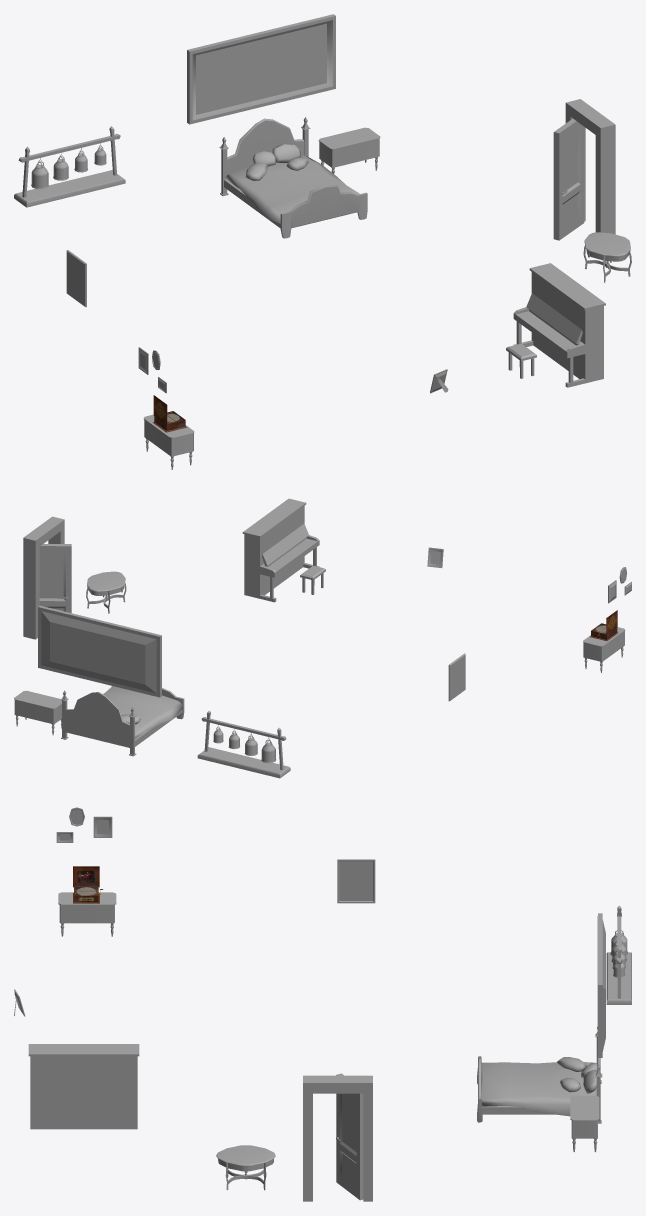
The model's file is SM_HabitacionRelleno_Geo.fbx.
3 views of the same model, one above another, from view 1: azimuth 30°, elevation 25°; view 2: azimuth 150°, elevation 25°; view 3: azimuth 270°, elevation 25° (orthographic). The views are drawn at different scales.
Parts seen in each view (by area): view 1: SM_CuadroColgadoGrande_B, Cama, Piano, puerta, marco, base (×2), Campana_base, almohadones, mesa_base, Cuadro_Puzzle, patas_base, Caja_Musical; view 2: SM_CuadroColgadoGrande_B, Cama, Piano, marco, puerta, base (×2), Campana_base, mesa_base, Cuadro_Puzzle, patas_base, Caja_Musical, Campana_viga; view 3: Piano, Cama, marco, puerta, Cuadro_Puzzle, patas_base (×2), SM_CuadroColgadoGrande_B, mesa_base, base, Caja_Musical, Campana_base, almohadones.
Part boxes in pixels (<box>): SM_CuadroColgadoGrande_B: <box>187,14,335,124</box>; Cama: <box>219,117,367,238</box>; Piano: <box>513,263,605,387</box>; puerta: <box>553,118,584,240</box>; marco: <box>565,99,615,234</box>; base (×2): <box>144,138,379,456</box>; Campana_base: <box>14,170,125,207</box>; almohadones: <box>245,144,308,180</box>; mesa_base: <box>584,232,630,261</box>; Cuadro_Puzzle: <box>66,250,86,307</box>; patas_base: <box>318,127,380,173</box>; Caja_Musical: <box>153,395,187,432</box>; SM_CuadroColgadoGrande_B: <box>38,605,161,697</box>; Cama: <box>61,686,184,756</box>; Piano: <box>242,498,319,602</box>; marco: <box>23,516,64,639</box>; puerta: <box>39,544,71,612</box>; base (×2): <box>14,631,624,724</box>; Campana_base: <box>197,747,290,778</box>; mesa_base: <box>87,571,125,595</box>; Cuadro_Puzzle: <box>448,653,465,701</box>; patas_base: <box>14,690,61,735</box>; Caja_Musical: <box>590,610,617,640</box>; Campana_viga: <box>201,717,286,740</box>; Piano: <box>28,1044,139,1129</box>; Cama: <box>477,1027,602,1123</box>; marco: <box>303,1075,372,1201</box>; puerta: <box>336,1073,363,1200</box>; Cuadro_Puzzle: <box>337,859,375,903</box>; patas_base (×2): <box>58,892,599,1152</box>; SM_CuadroColgadoGrande_B: <box>597,913,605,1057</box>; mesa_base: <box>216,1145,275,1171</box>; base: <box>59,905,114,923</box>; Caja_Musical: <box>73,866,99,903</box>; Campana_base: <box>606,952,631,1004</box>; almohadones: <box>557,1057,597,1093</box>.
Bounding box in the file's own units: 11.98 × 3.05 × 11.16.
